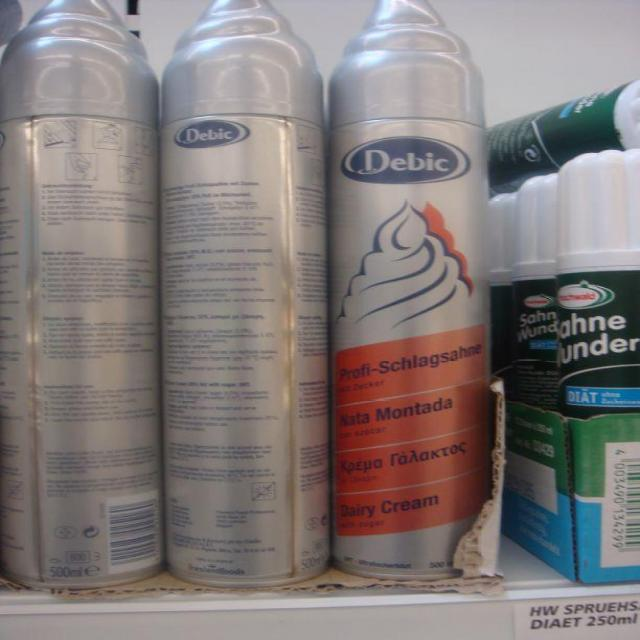cream: (161, 0, 328, 586), (0, 0, 161, 587), (329, 0, 488, 579), (557, 149, 640, 419), (486, 80, 639, 195), (512, 173, 557, 410), (487, 193, 516, 377)
